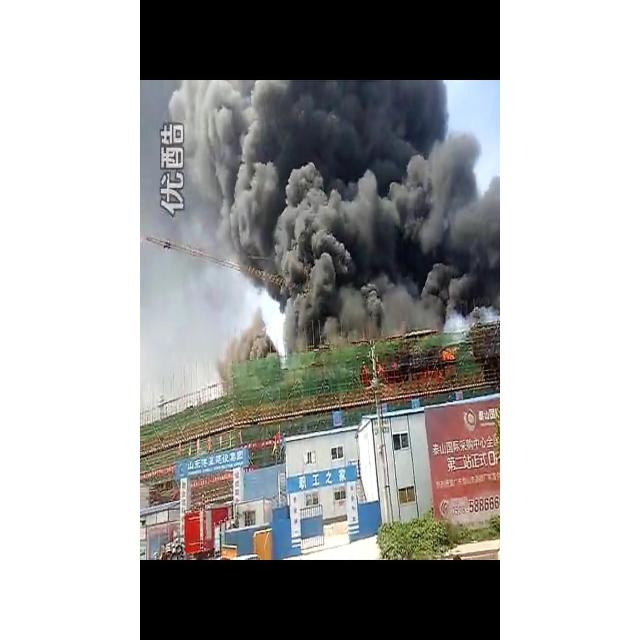fire: (439, 346, 455, 363)
smoke: (169, 80, 498, 350)
